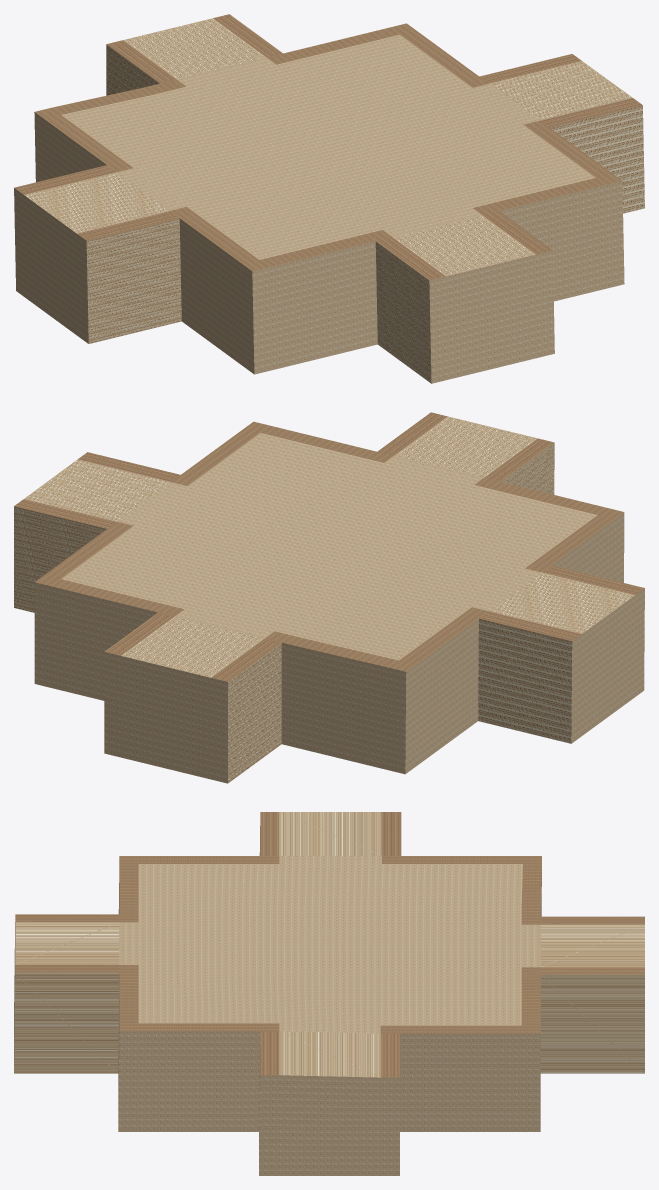
The model's file is crossing.FBX.
The picture shows the model from 3 angles, top to bottom: view 1: azimuth 30°, elevation 25°; view 2: azimuth 150°, elevation 25°; view 3: azimuth 270°, elevation 25°; orthographic projection. The views are drawn at different scales.
Visible parts, largest first — view 1: Box001; view 2: Box001; view 3: Box001.
Boxes of the visible parts, x1,y1,x2,y2 form: Box001: (14,14,644,383); Box001: (14,412,644,783); Box001: (14,812,644,1175).
Size of the model in its own units: 89.87 by 15.88 by 90.8.
Materials: 2 (2 with a texture image).
